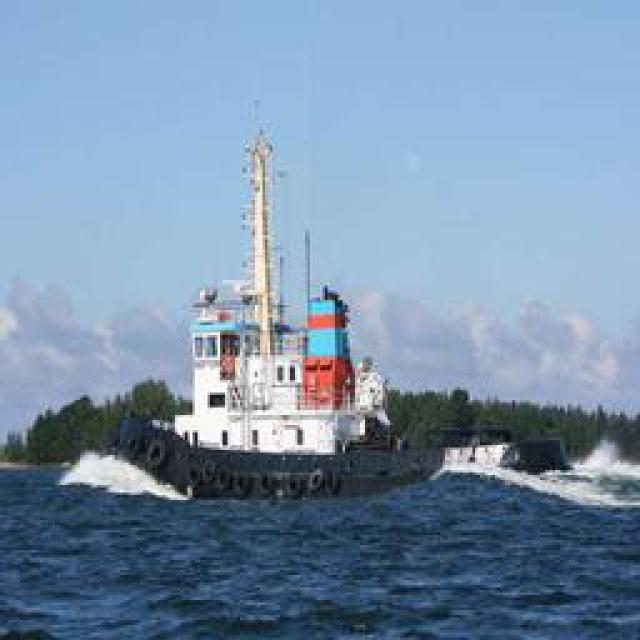Ship: (106, 132, 576, 511)
